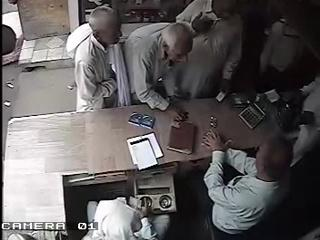Normal: (202, 126, 294, 239), (164, 0, 243, 103), (123, 21, 195, 118), (83, 193, 158, 240)
shoplifting: (65, 5, 124, 112)
